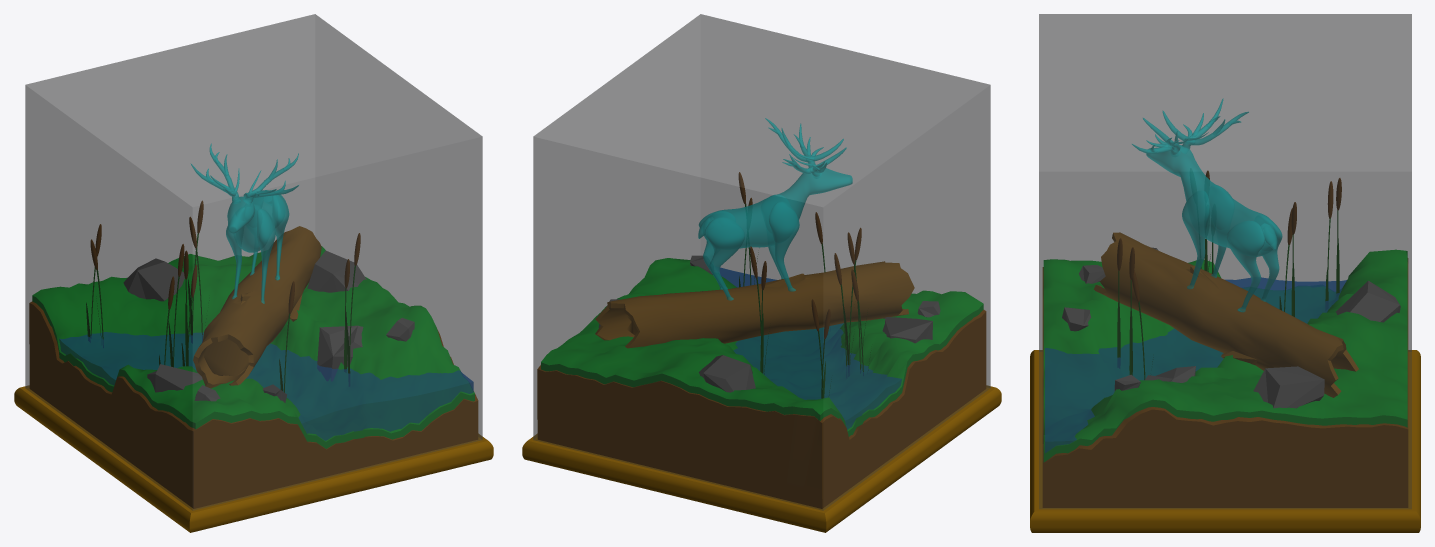
3 renders of one model, left to right at view 1: azimuth 30°, elevation 25°; view 2: azimuth 150°, elevation 25°; view 3: azimuth 270°, elevation 25°, orthographic. The views are drawn at different scales.
Parts seen in each view (by area): view 1: Case_Glass_MTL_0, grass, Ground, Water, Case_Material_#2_0, Tree, Deer, Stone_Stone_0, Stone002, Stone003, Stone001; view 2: Case_Glass_MTL_0, Ground, grass, Tree, Case_Material_#2_0, Water, Deer, Stone_Stone_0, Stone001; view 3: Case_Glass_MTL_0, grass, Ground, Tree, Case_Material_#2_0, Water, Deer, Stone003, Stone_Stone_0, Stone004, Stone002.
Part boxes in pixels (x1=…): Case_Glass_MTL_0: x1=25, y1=14, x2=482, y2=510; grass: x1=32, y1=246, x2=474, y2=448; Ground: x1=29, y1=301, x2=478, y2=508; Water: x1=59, y1=332, x2=473, y2=440; Case_Material_#2_0: x1=14, y1=385, x2=493, y2=532; Tree: x1=193, y1=226, x2=321, y2=388; Deer: x1=191, y1=143, x2=298, y2=303; Stone_Stone_0: x1=123, y1=258, x2=184, y2=301; Stone002: x1=317, y1=325, x2=363, y2=381; Stone003: x1=307, y1=251, x2=366, y2=292; Stone001: x1=147, y1=364, x2=202, y2=392; Case_Glass_MTL_0: x1=533, y1=14, x2=990, y2=510; Ground: x1=537, y1=310, x2=986, y2=508; grass: x1=541, y1=258, x2=983, y2=436; Tree: x1=595, y1=261, x2=914, y2=348; Case_Material_#2_0: x1=522, y1=385, x2=1001, y2=532; Water: x1=719, y1=267, x2=901, y2=429; Deer: x1=698, y1=118, x2=852, y2=300; Stone_Stone_0: x1=699, y1=355, x2=755, y2=392; Stone001: x1=882, y1=317, x2=932, y2=343; Case_Glass_MTL_0: x1=1039, y1=14, x2=1411, y2=508; grass: x1=1043, y1=249, x2=1407, y2=461; Ground: x1=1042, y1=258, x2=1408, y2=507; Tree: x1=1094, y1=232, x2=1358, y2=397; Case_Material_#2_0: x1=1030, y1=350, x2=1420, y2=532; Water: x1=1045, y1=277, x2=1346, y2=452; Deer: x1=1132, y1=98, x2=1282, y2=312; Stone003: x1=1253, y1=366, x2=1324, y2=408; Stone_Stone_0: x1=1336, y1=281, x2=1400, y2=322; Stone004: x1=1062, y1=307, x2=1090, y2=331; Stone002: x1=1145, y1=366, x2=1195, y2=382.
Size of the model in its own units: 2.62 by 2.65 by 2.62.
